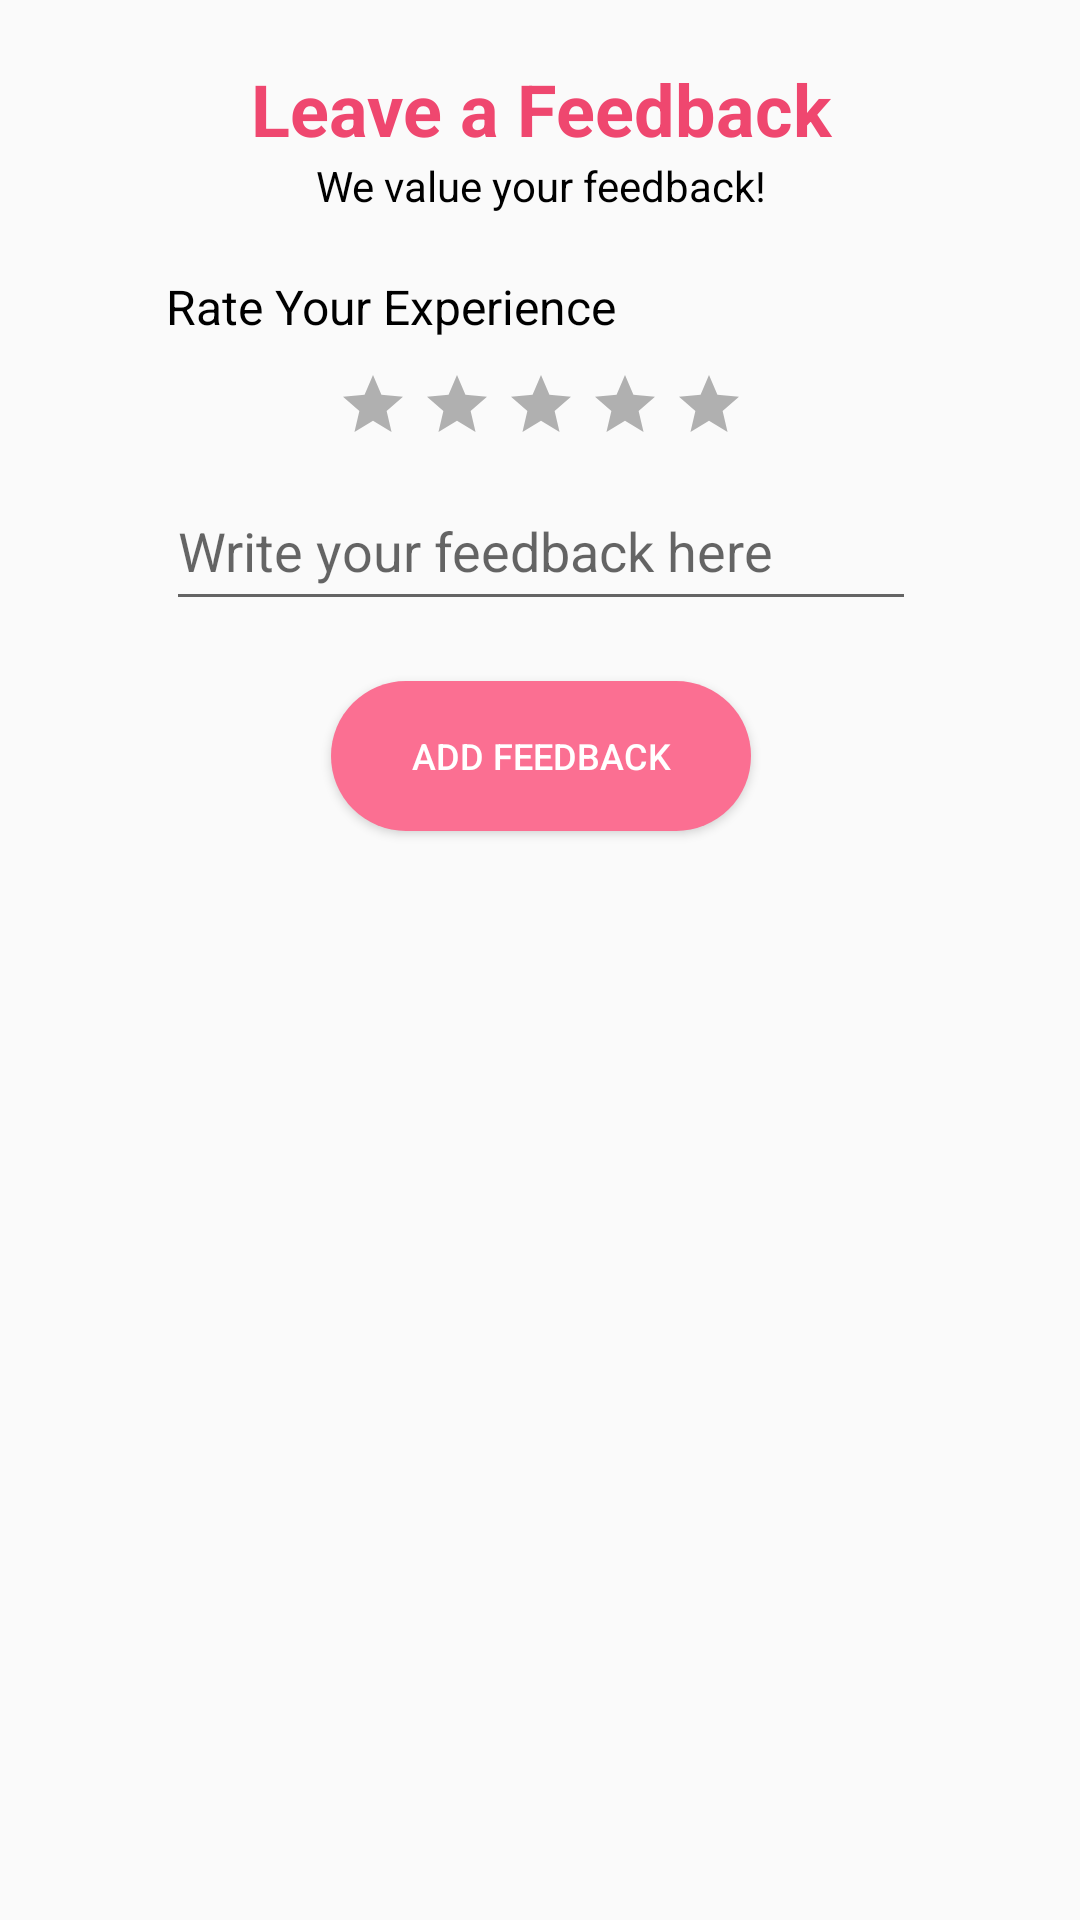

Named icons in this screenshot (1080*1920) and their bounding boxes, [left=x1, top=y1, right=x2, bottom=y2]:
Star 1: [left=344, top=376, right=402, bottom=432]
Star 2: [left=428, top=376, right=486, bottom=432]
Star 3: [left=512, top=376, right=570, bottom=432]
Star 4: [left=596, top=376, right=654, bottom=432]
Star 5: [left=680, top=376, right=738, bottom=432]
